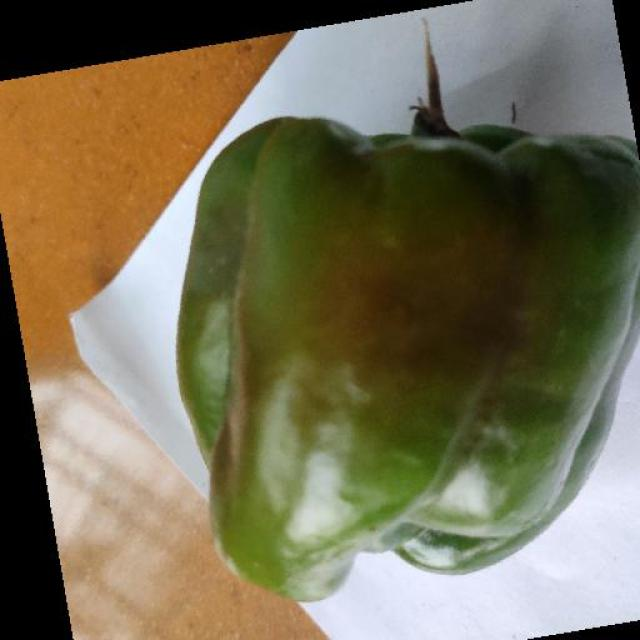Stale_Capsicum: (157, 156, 640, 558)
